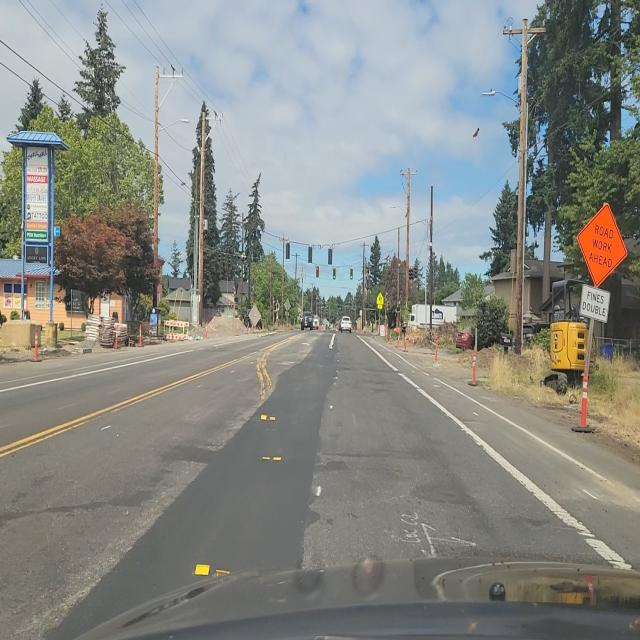car: (300, 311, 312, 331), (340, 316, 352, 333), (312, 316, 320, 330), (335, 319, 341, 332)
crosswalk-sign: (571, 203, 627, 439), (376, 292, 384, 313)
delineator: (578, 364, 590, 428), (469, 328, 478, 386), (433, 336, 439, 366), (34, 326, 38, 362), (403, 328, 408, 351), (396, 324, 401, 347), (114, 327, 118, 349), (139, 322, 142, 347), (389, 324, 393, 342), (412, 332, 416, 348), (235, 322, 239, 336), (205, 323, 208, 338), (246, 322, 250, 333), (171, 331, 174, 342), (356, 324, 359, 333)
